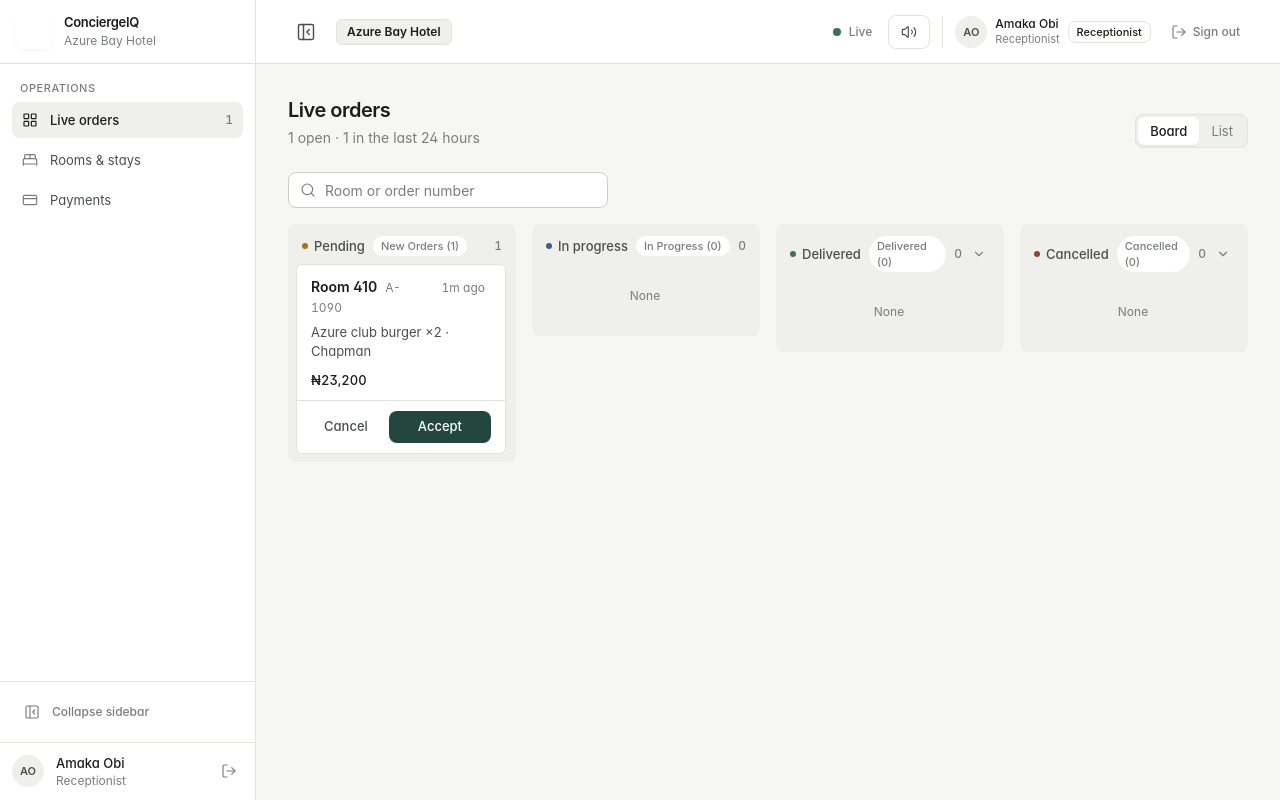
Test: Live Orders Board + OrderDetailDrawer lifecycle integration › opens drawer on card click, advances PENDING -> IN_PROGRESS -> DELIVERED, and moves the card across columns
This screenshot has width=1280, height=800.
Later steps or results of the test are not shown.
Click the button with aria-label "Open Room 410, order A-1090": (401, 332) left=297, top=265, right=505, bottom=400
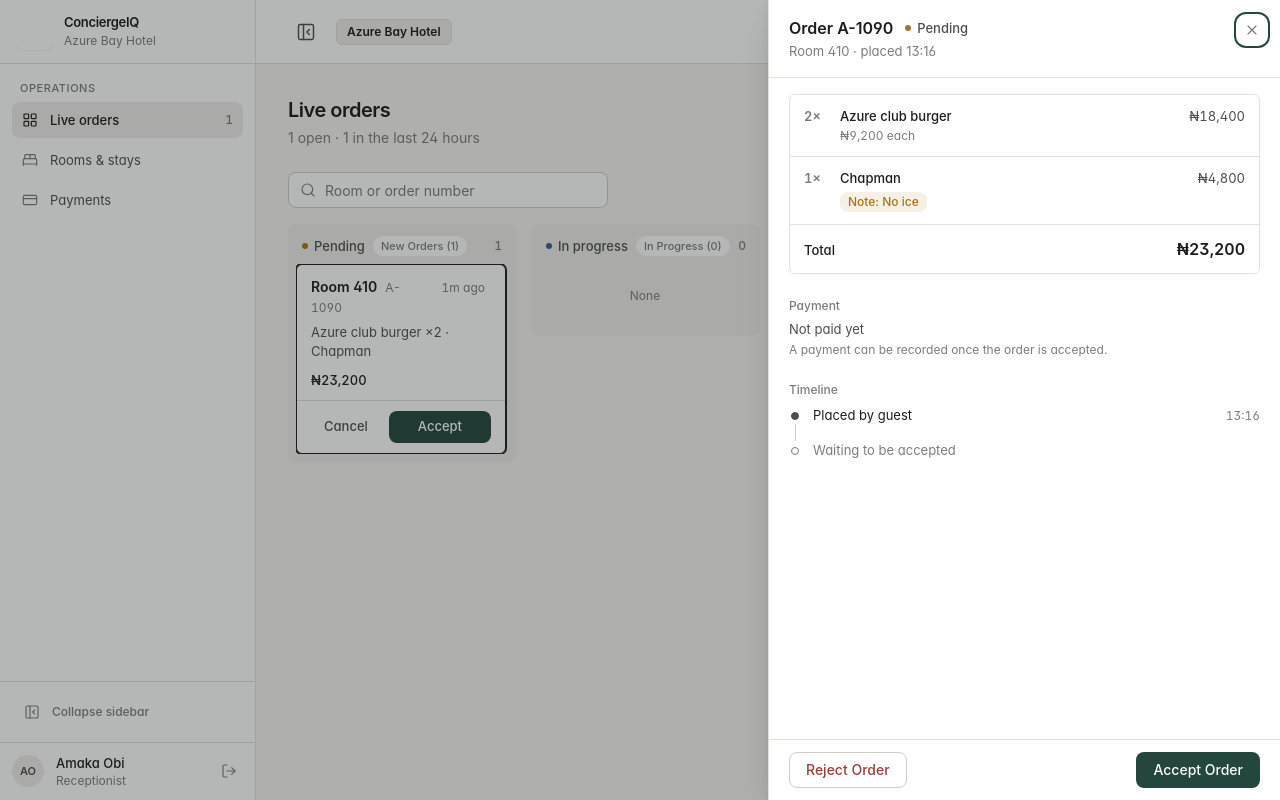
Check: the text "Room 410 · placed 13:16" is shown, box left=789, top=43, right=936, bottom=59
